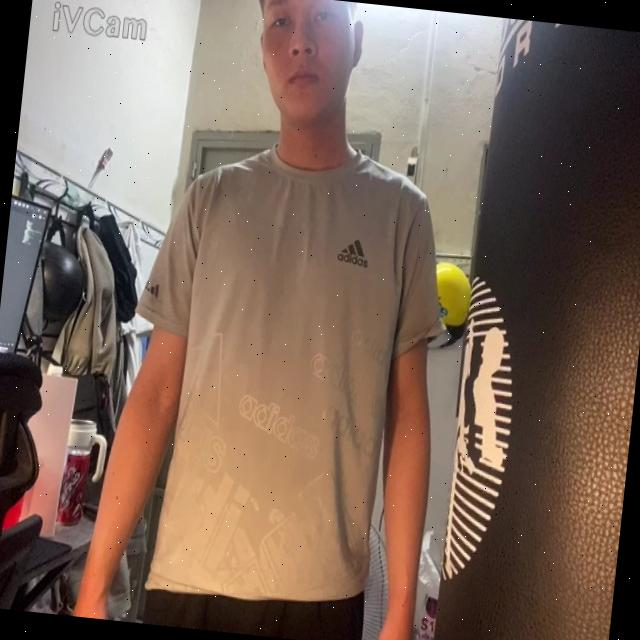T_shirt: (142, 147, 435, 600)
